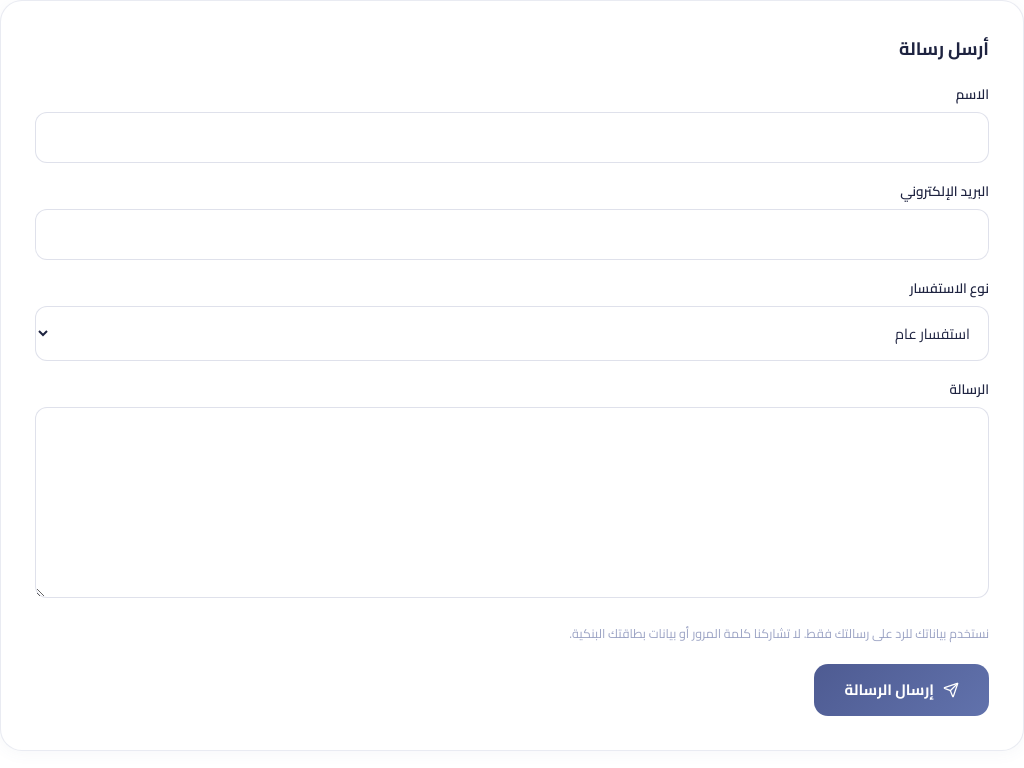
Test: client-side validation › rejects a malformed email
The width and height of the screenshot is (1024, 768).
Type "سارة أحمد" into the field labelled "الاسم" at [512, 137], box x1=35 y1=112 x2=989 y2=163
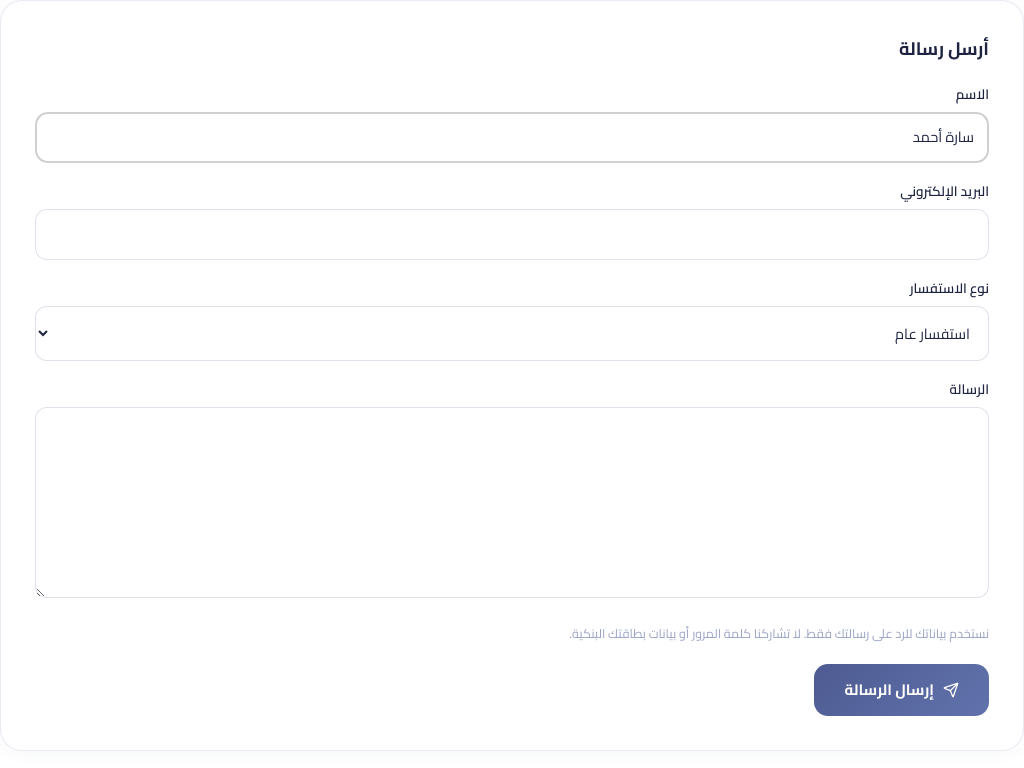
Type "not-an-email" into the field labelled "البريد الإلكتروني" at [512, 234], box x1=35 y1=209 x2=989 y2=260
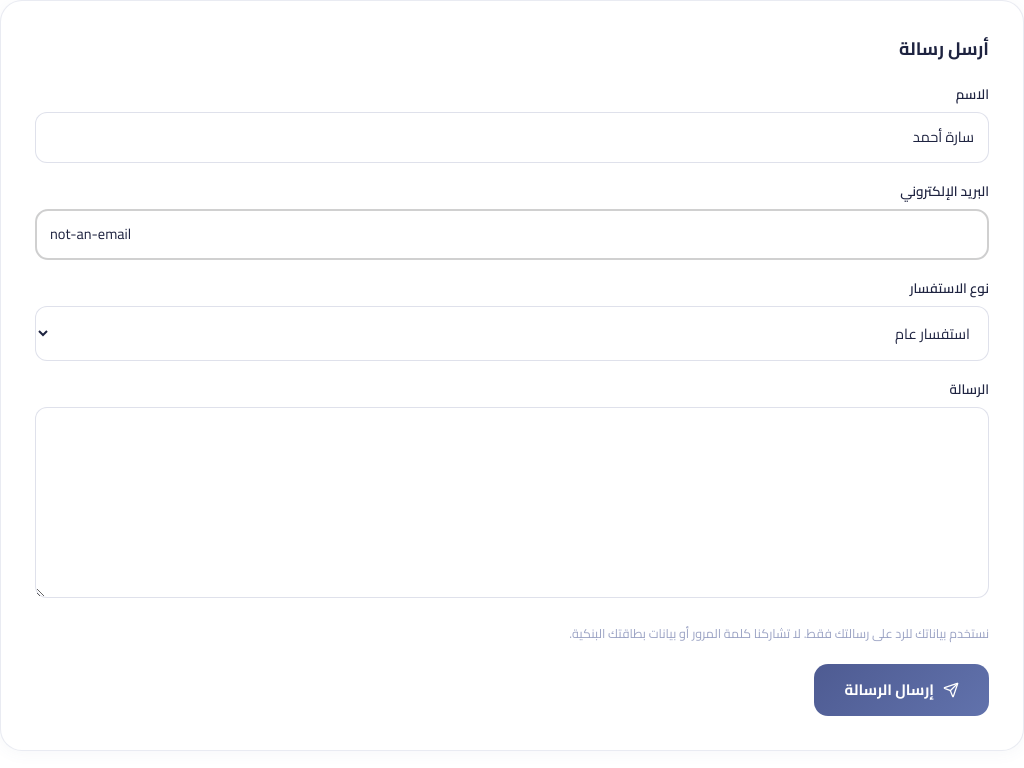
Type "رسالة تجريبية" into the text box labelled "الرسالة" at [512, 503], box x1=35 y1=407 x2=989 y2=598
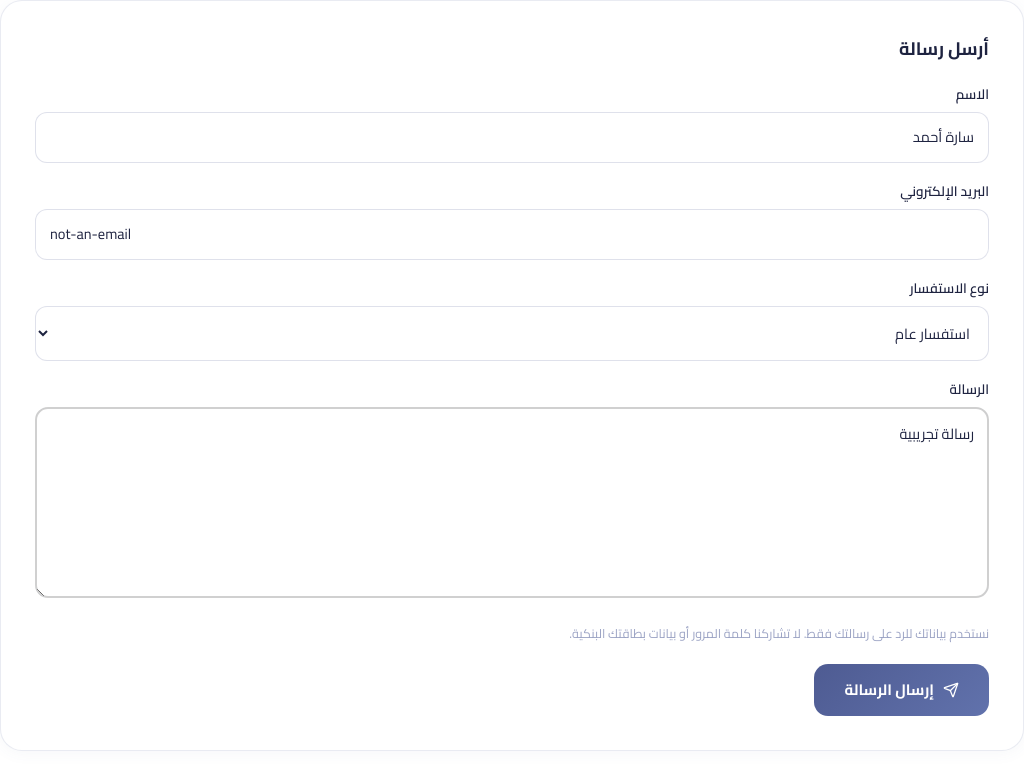
Click the button "إرسال الرسالة" at [902, 690], box x1=814 y1=664 x2=989 y2=716
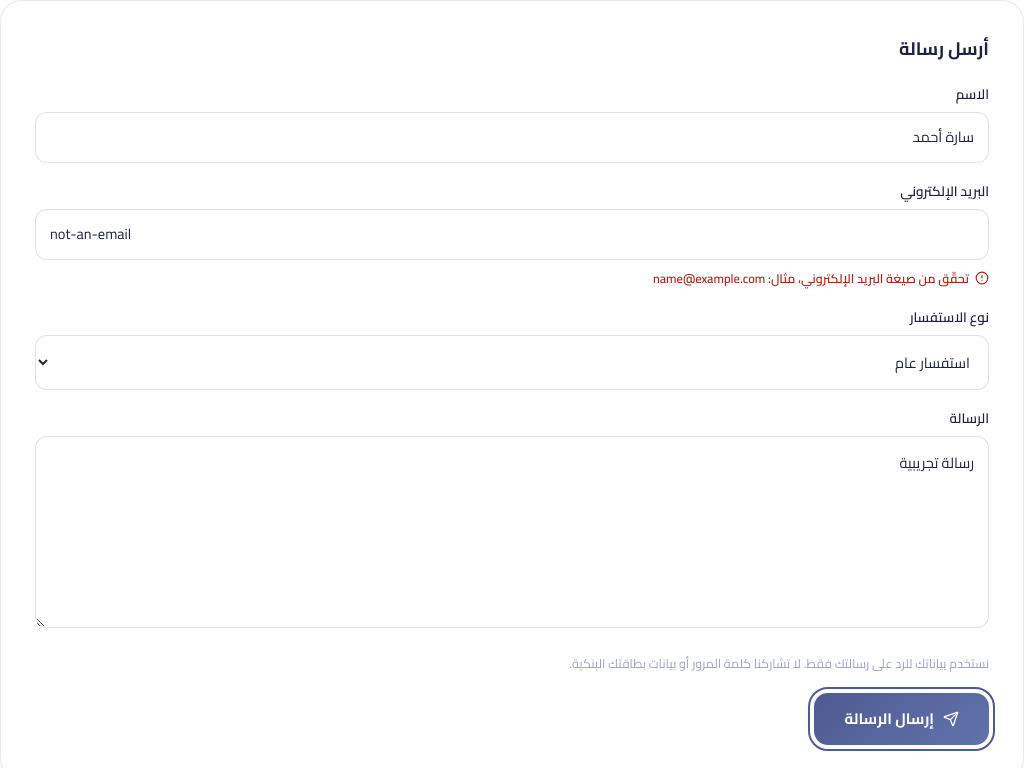
Now the text "تحقّق من صيغة البريد الإلكتروني، مثال: name@example.com" is shown, box x1=653 y1=267 x2=989 y2=290
